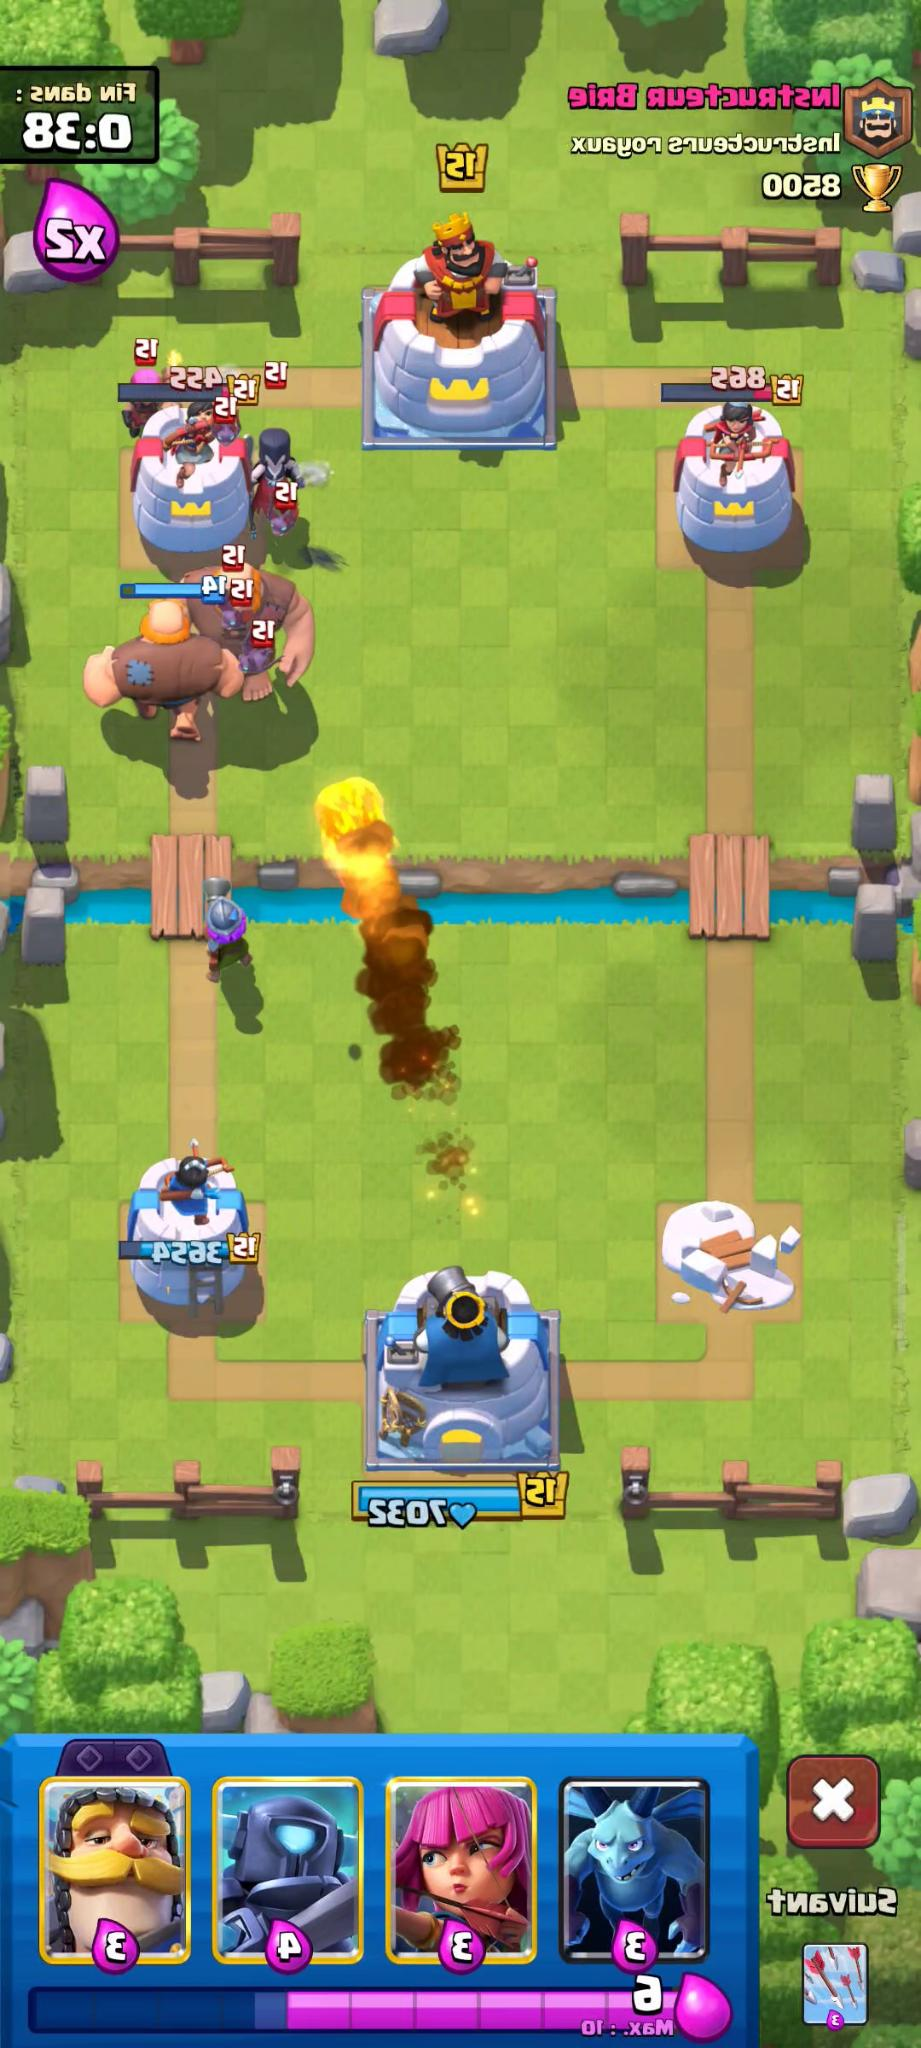bat: (252, 481, 327, 551), (231, 627, 289, 678), (208, 584, 263, 636), (205, 388, 246, 452)
geant: (80, 581, 243, 747), (165, 550, 321, 713)
mousquetaire: (184, 875, 260, 1000)
